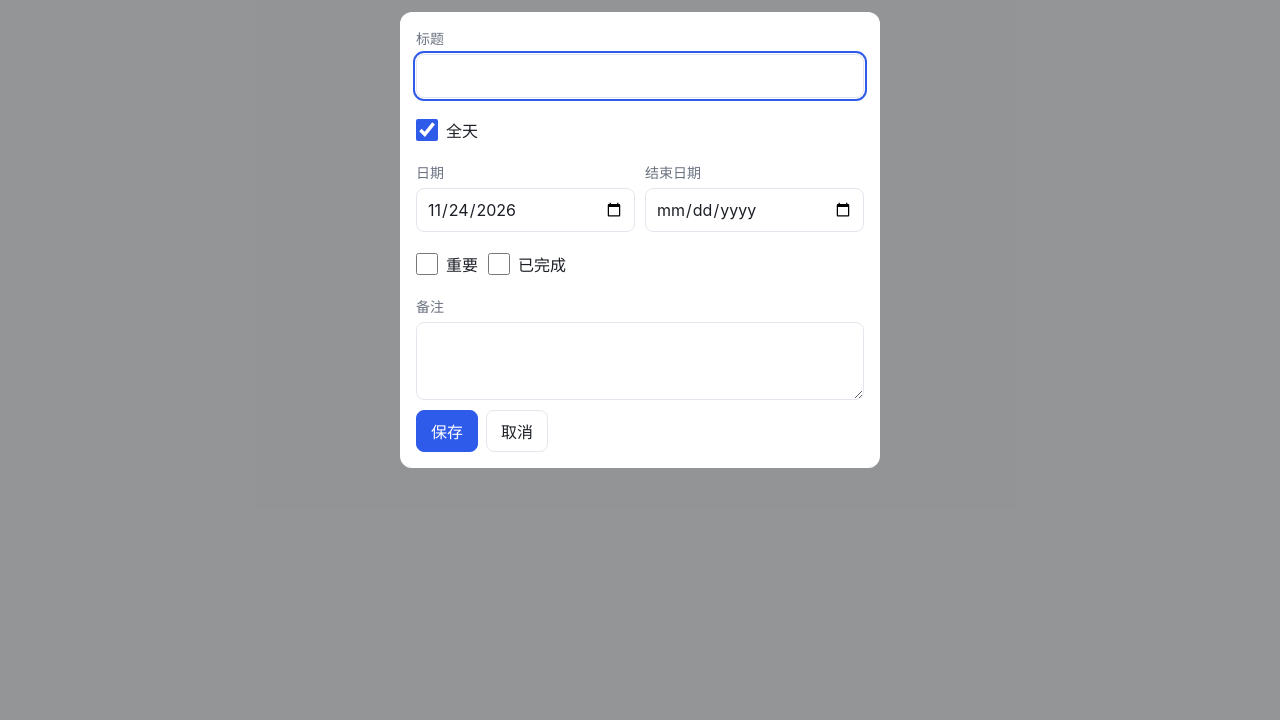
Test: an end before the start is refused with 结束不能早于开始 and nothing is saved
Type "开会" into the field labelled "标题".
click(640, 76); type("开会")  # box [416,54,864,98]
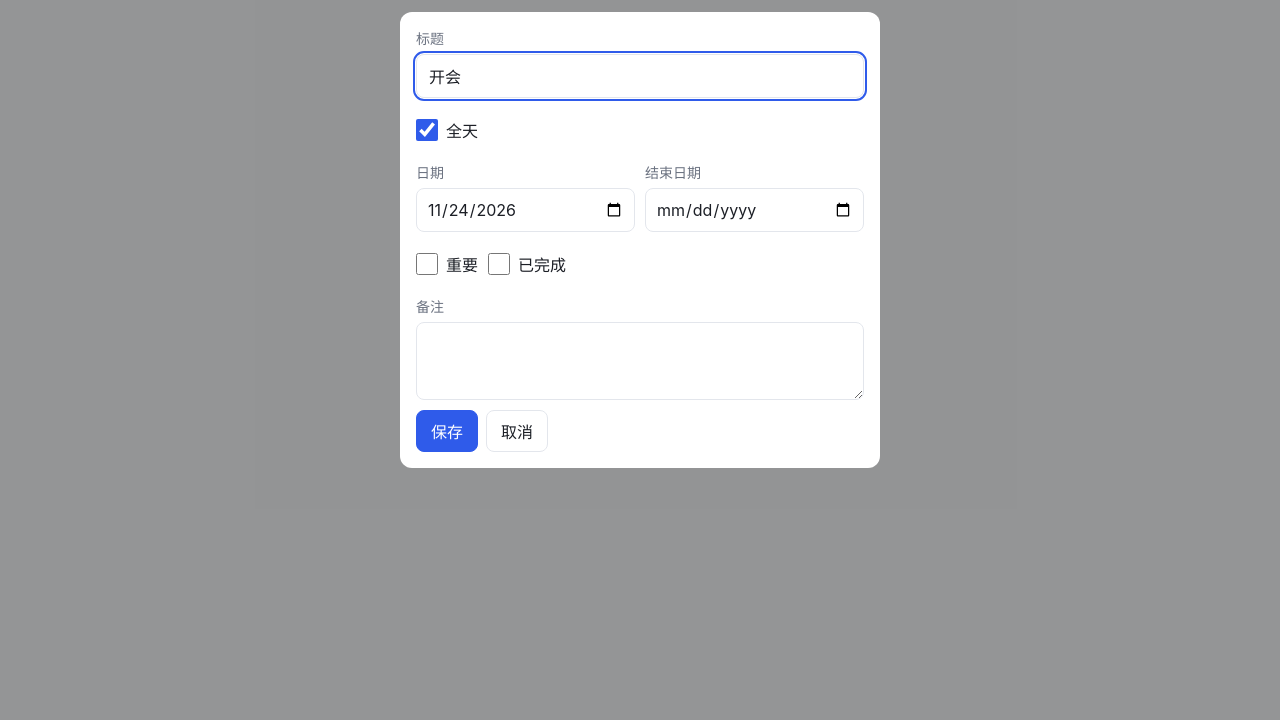
Click the checkbox labelled "全天".
click(427, 130)  # box [416,119,438,141]
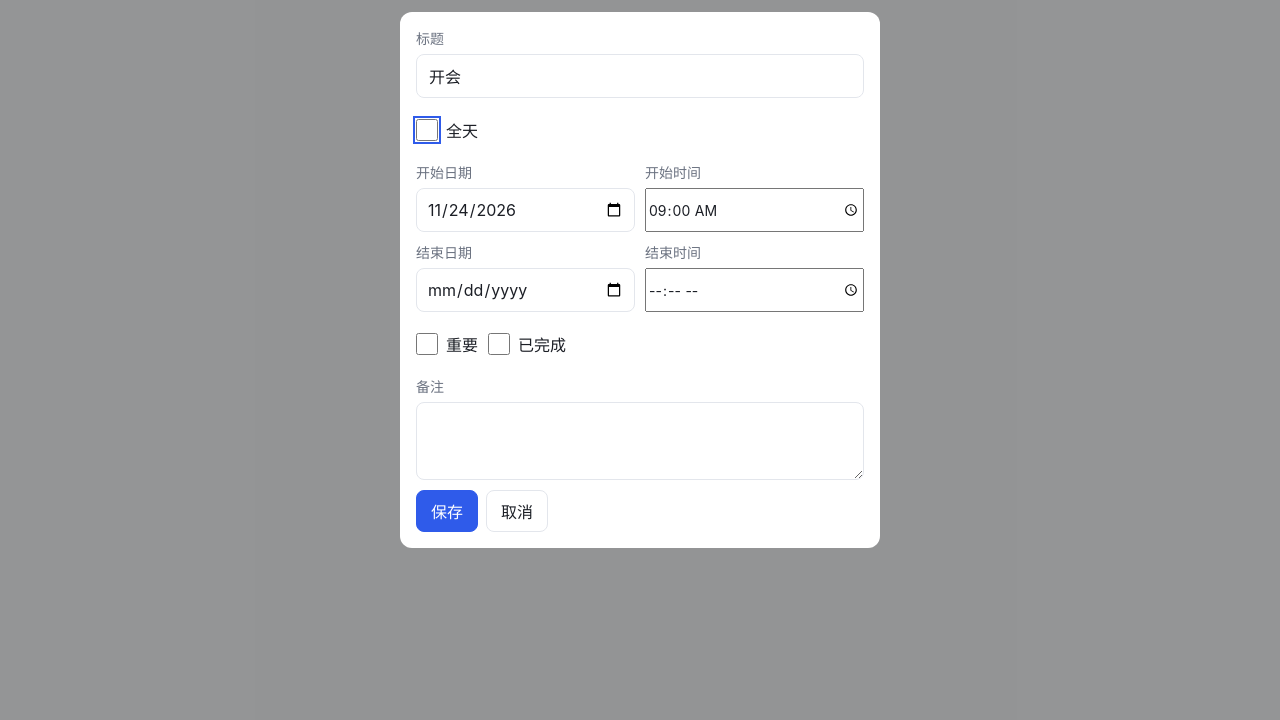
Type "08:00" into the time field labelled "结束时间".
click(754, 290); type("08:00")  # box [645,268,864,312]
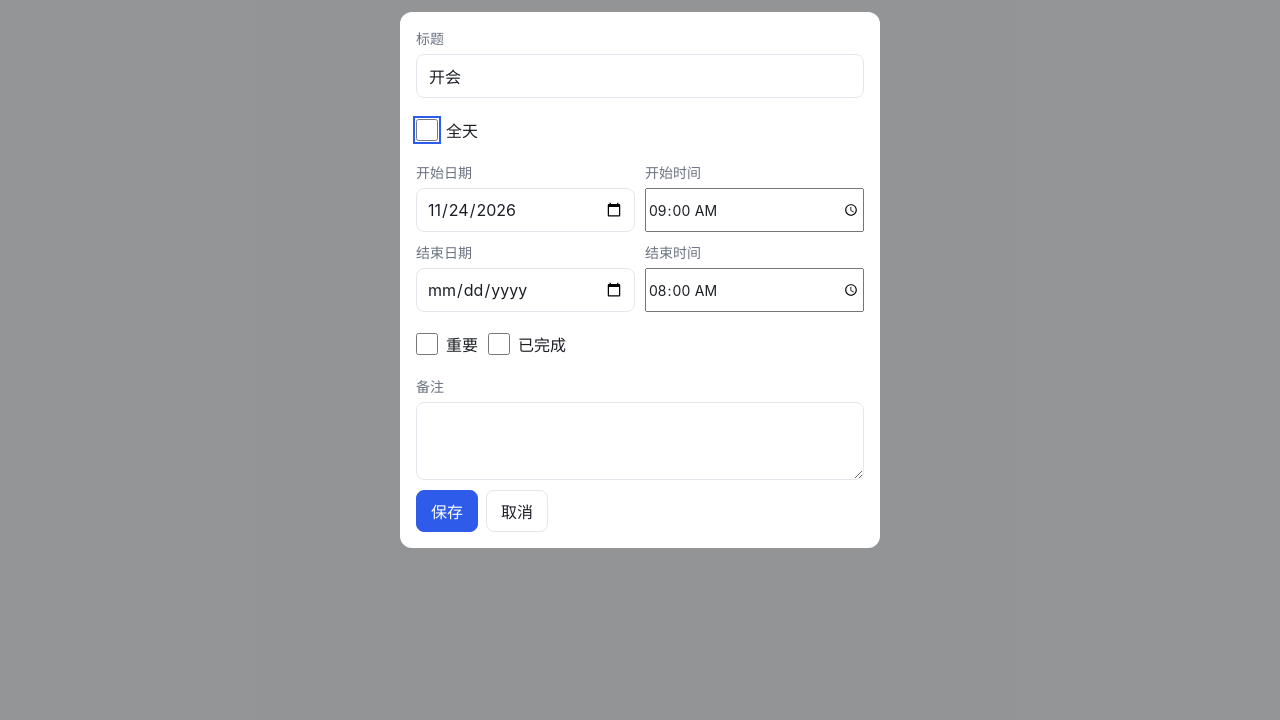
Click the button "保存".
click(447, 511)  # box [416,490,478,532]
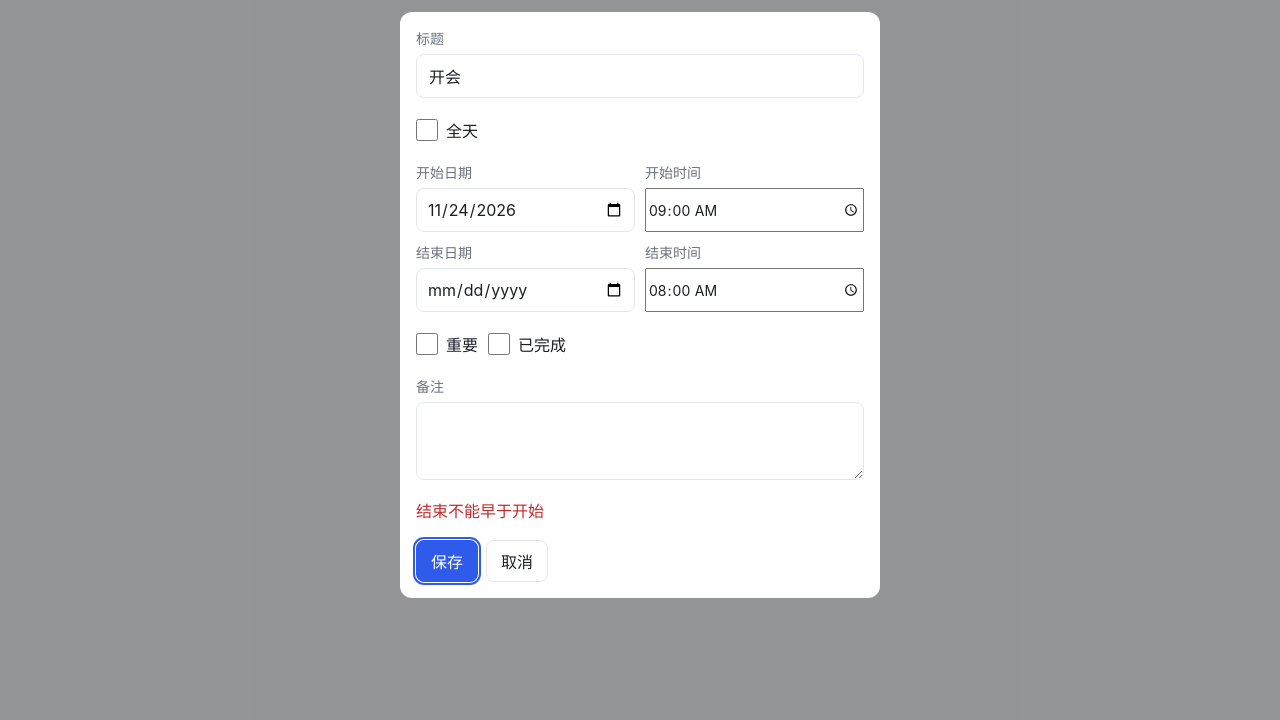
Result: the message reads "结束不能早于开始" at [416,501,544,521]
